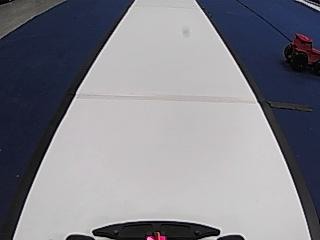Tracktor: (282, 30, 319, 73)
